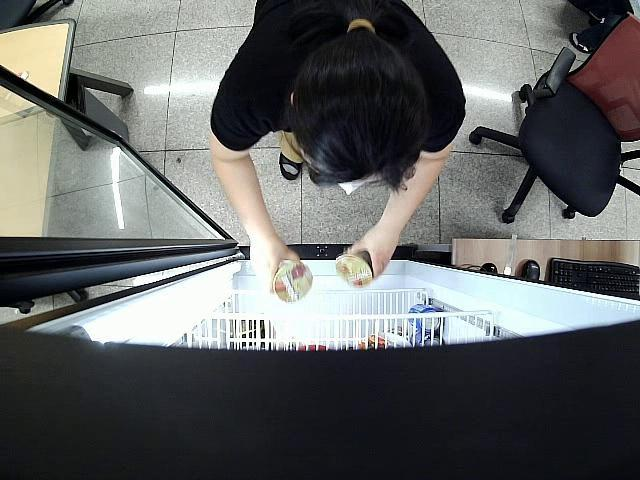04_chapagetti_S: (273, 262, 313, 302), (336, 250, 374, 287)
